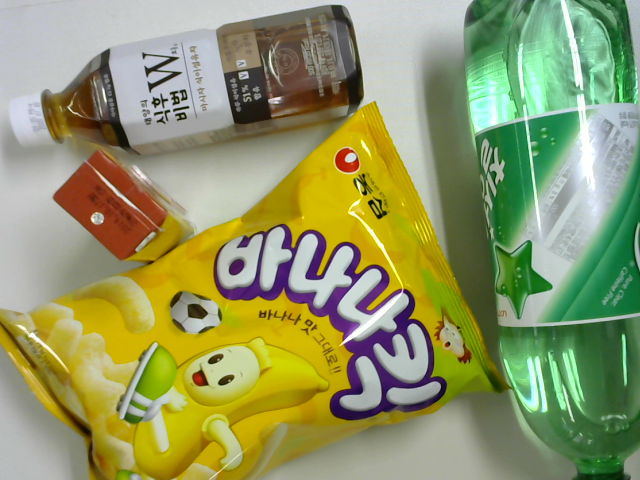Banana_Kick: (1, 106, 509, 480)
Chilseong_Cider_1.5L: (463, 1, 637, 480)
Choco_E_Mong: (53, 148, 201, 266)
Post-meal_recipe_W_tea_500ml: (9, 4, 365, 148)
